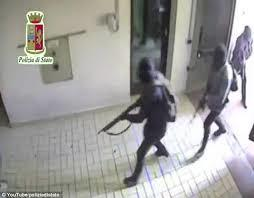weapon: (95, 94, 144, 138), (187, 90, 209, 124)
